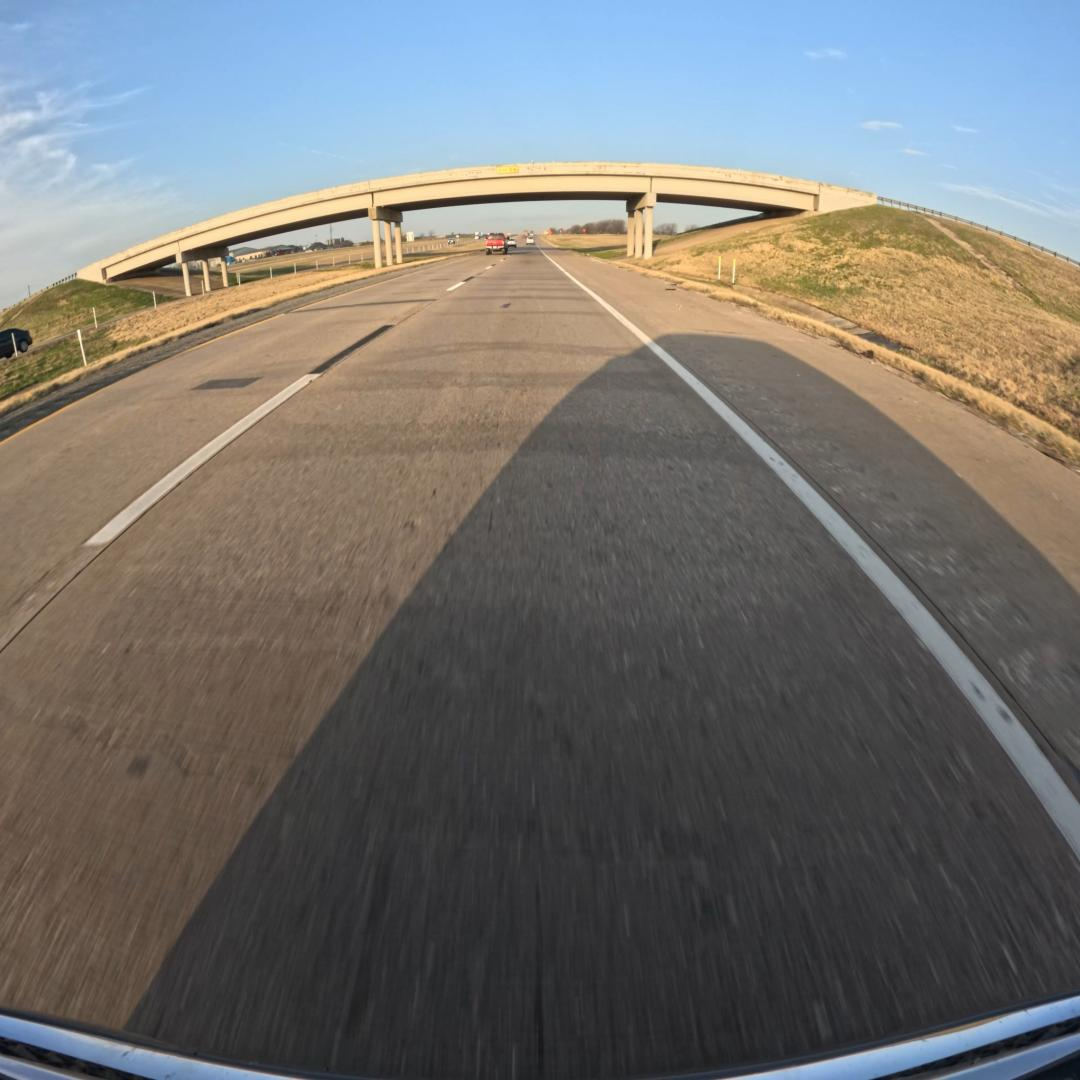lane0: (0, 254, 1080, 1080)
lane1: (0, 251, 503, 651)
